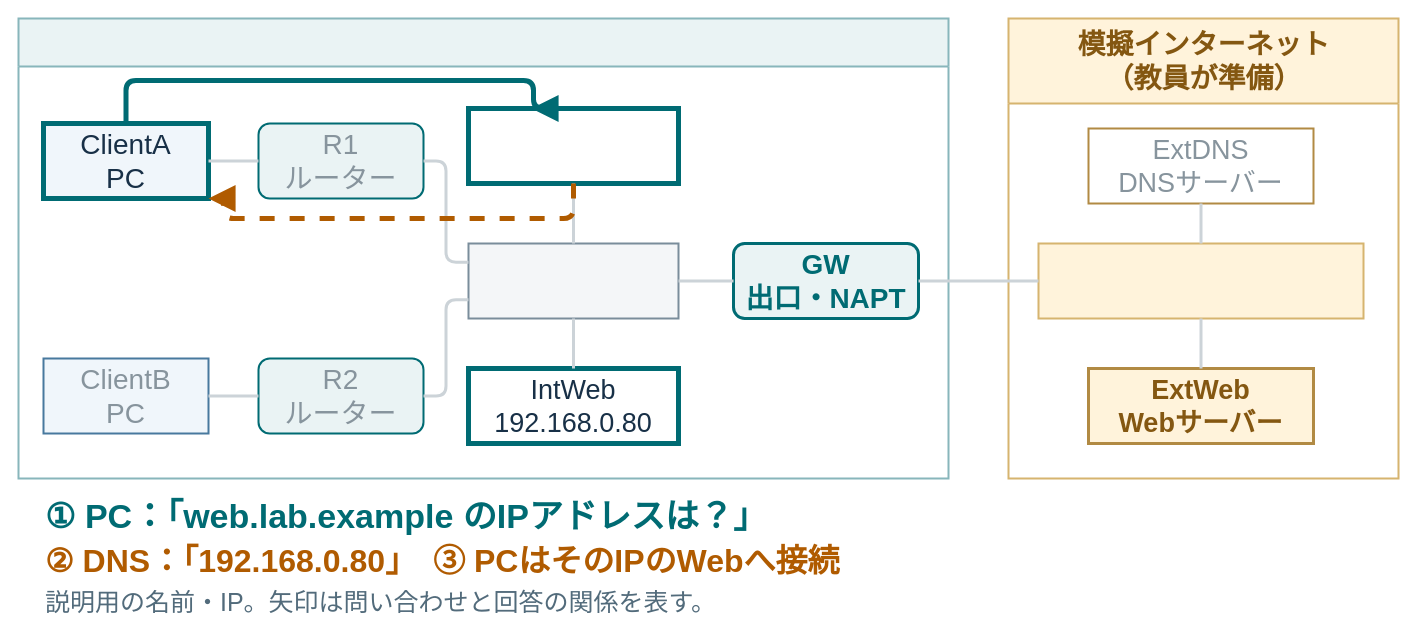
Image size: 1416x635. Some labels were removed from this diagram. The box of each missing label's shape, as (x1, y1, x2, y2) in pixels:
IntDNS DNSサーバー: (466, 106, 680, 186)
スイッチ （中継）: (467, 242, 679, 319)
外部ネットワーク: (1037, 242, 1364, 319)
模擬LAN（学生が構築）: (17, 17, 949, 479)
